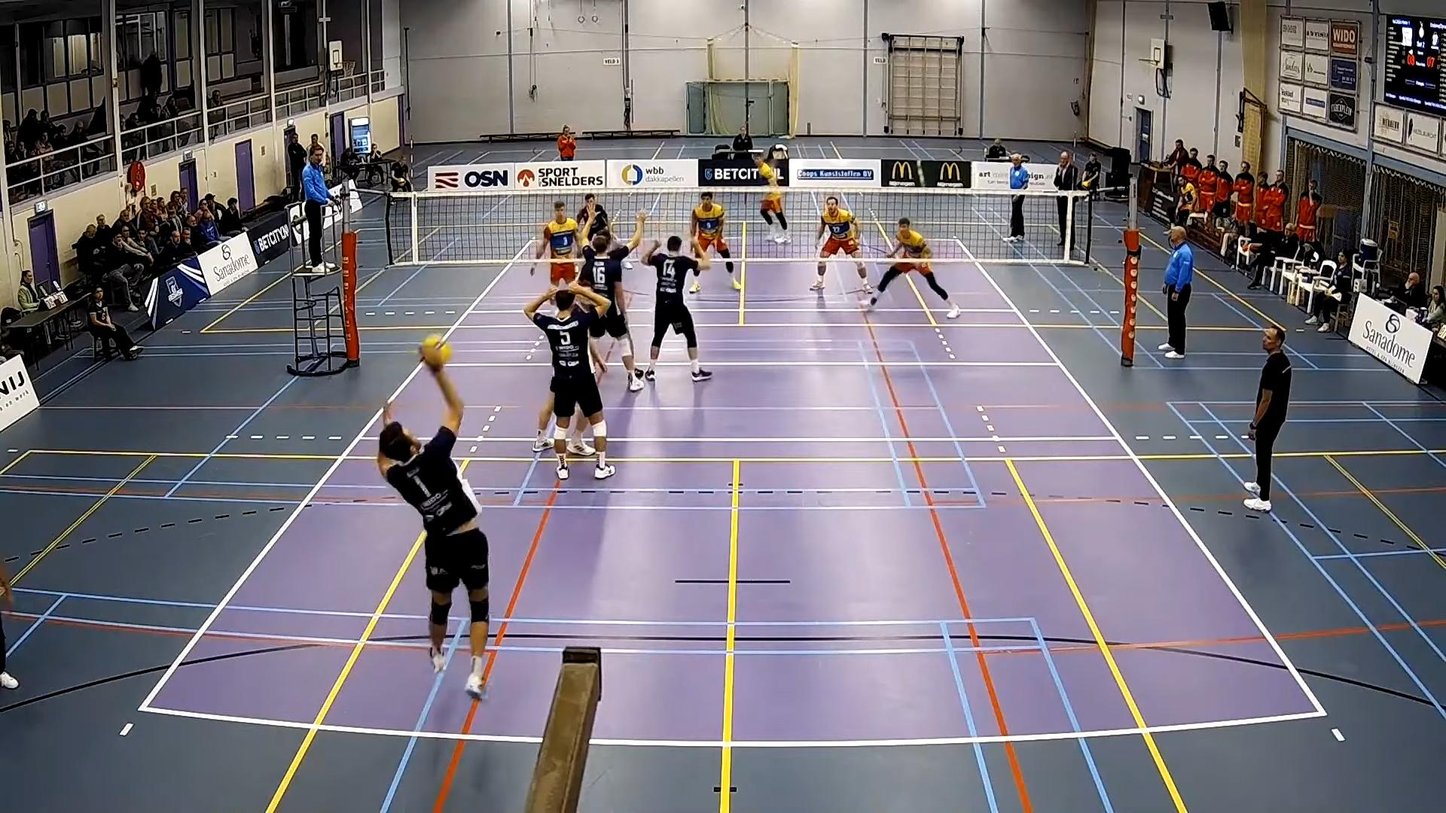Player: (523, 282, 615, 480), (580, 212, 645, 391), (643, 236, 711, 381), (868, 218, 959, 318), (810, 196, 871, 293), (689, 190, 741, 290), (535, 201, 579, 285), (755, 156, 789, 243), (575, 193, 612, 242), (532, 391, 554, 452)
Serve: (370, 360, 503, 714)
ball: (415, 338, 451, 366)
